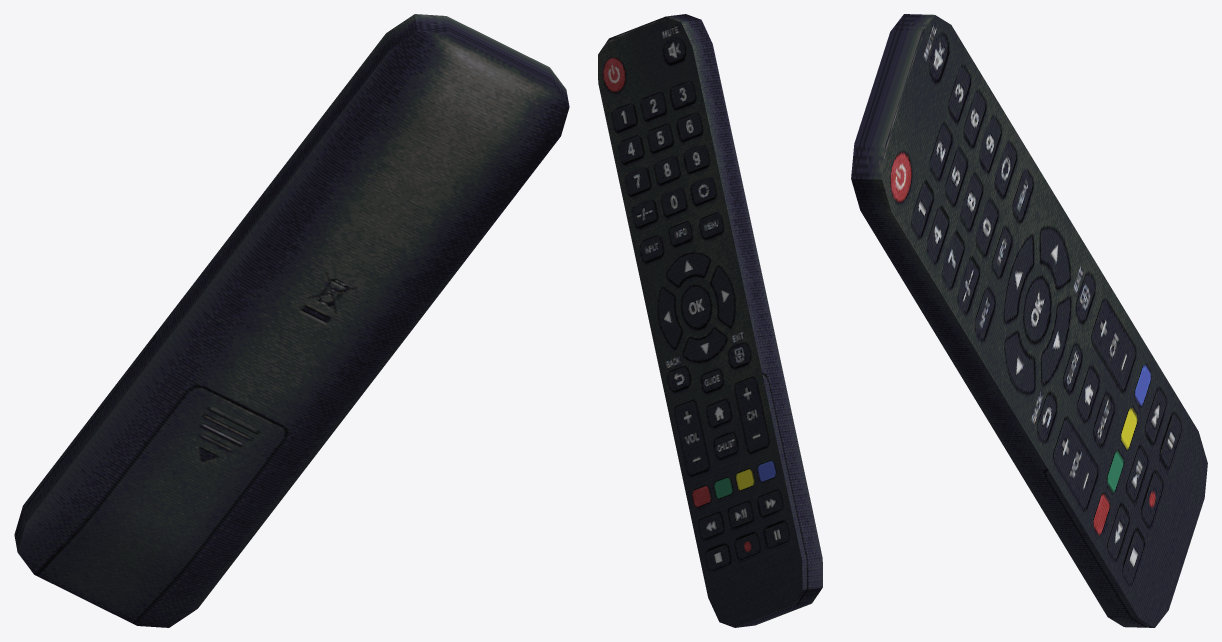
The model's file is tv-remote-psx.glb.
3 views of the same model, side by side, from view 1: azimuth 30°, elevation 25°; view 2: azimuth 150°, elevation 25°; view 3: azimuth 270°, elevation 25° (orthographic). The views are drawn at different scales.
Visible parts, largest first — view 1: tv_remote1; view 2: tv_remote1; view 3: tv_remote1.
Boxes of the visible parts, left/top/right/bottom form: tv_remote1: left=14, top=14, right=569, bottom=627; tv_remote1: left=598, top=14, right=822, bottom=627; tv_remote1: left=851, top=14, right=1207, bottom=627.
Bounding box in the file's own units: 0.0328 × 0.0484 × 0.0225.
Materials: 1 (1 with a texture image).
